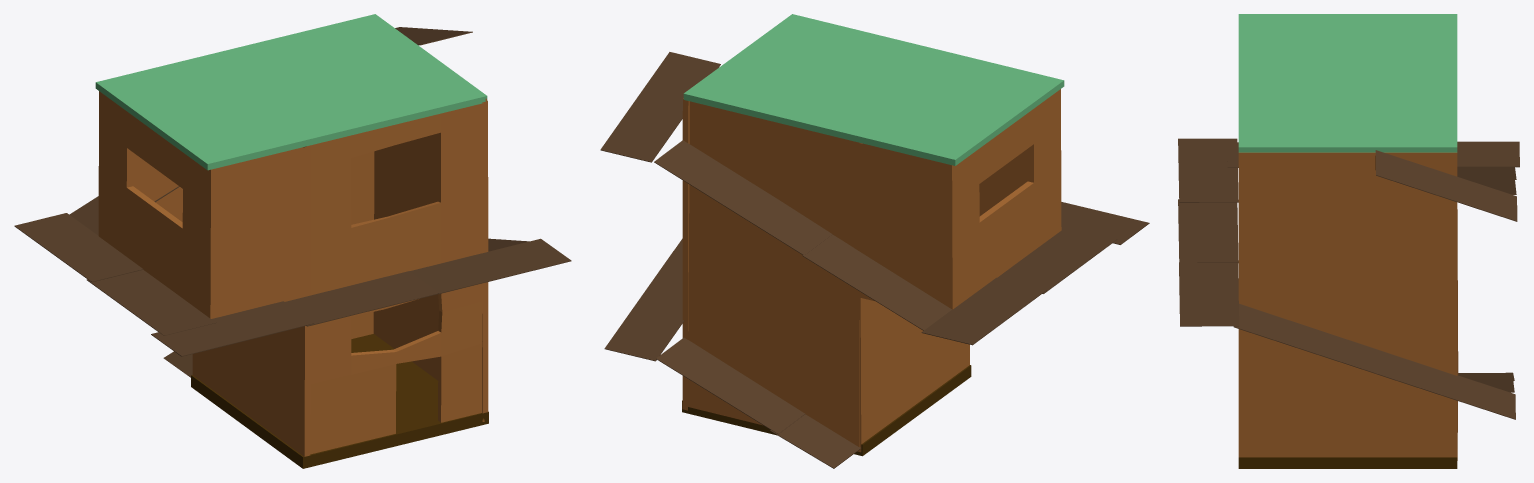
File: house_six.glb
The picture shows the model from 3 angles, left to right: view 1: azimuth 30°, elevation 25°; view 2: azimuth 150°, elevation 25°; view 3: azimuth 270°, elevation 25°; orthographic projection. The views are drawn at different scales.
Visible parts, largest first — view 1: Cube.004; view 2: Cube.004; view 3: Cube.004.
Part boxes in pixels (x1,y1,x2,y2): Cube.004: (14,14,571,468); Cube.004: (600,14,1149,468); Cube.004: (1178,14,1519,468).
Size of the model in its own units: 11.73 by 9.36 by 9.04.
